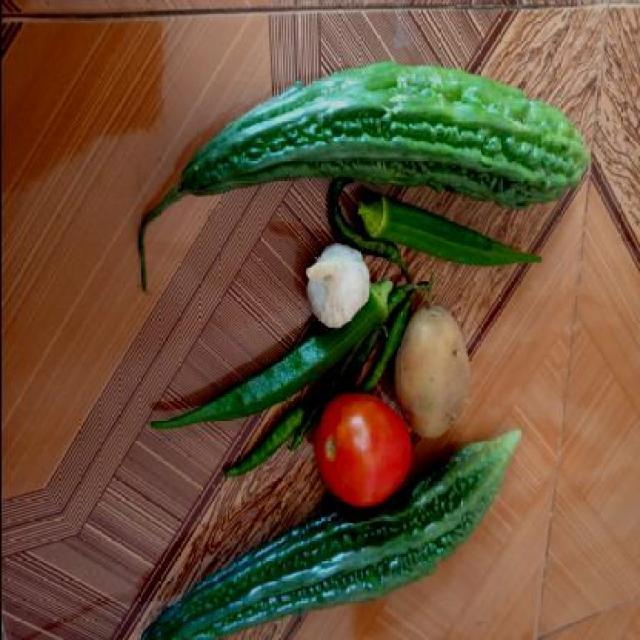Bitter melon: (157, 58, 585, 222), (140, 509, 454, 640)
Garlic: (300, 242, 368, 328)
Green Chili: (223, 409, 311, 486)
Lady finger: (357, 196, 500, 270)
Potato: (396, 303, 466, 439)
